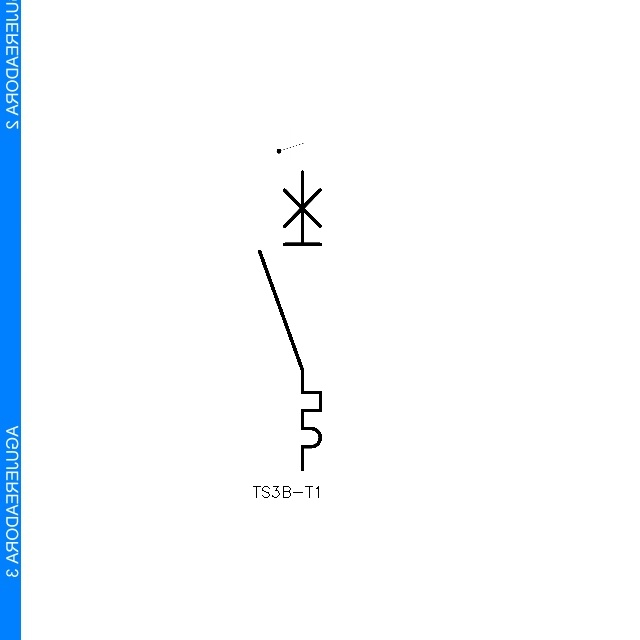interruptor_termomagnetico: (252, 164, 328, 476)
